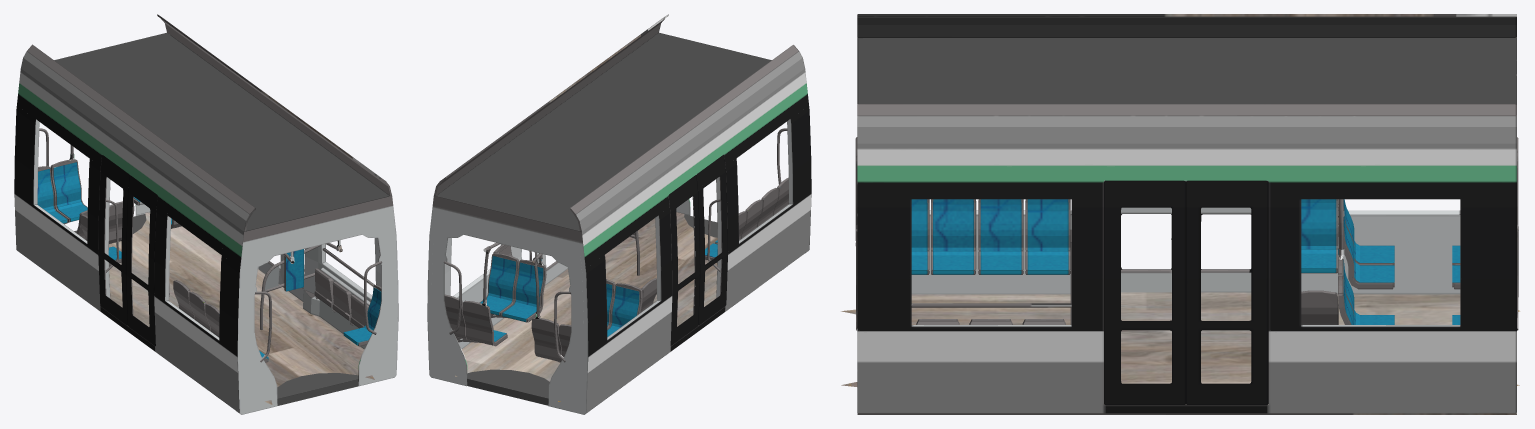
The model's file is trailcaf.obj.
The picture shows the model from 3 angles, left to right: view 1: azimuth 30°, elevation 25°; view 2: azimuth 150°, elevation 25°; view 3: azimuth 270°, elevation 25°; orthographic projection. The views are drawn at different scales.
Visible parts, largest first — view 1: extintfloor, ext, abitacleextint, extd, extdr2; view 2: extintfloor, ext, abitacleextint, extdr2, extd; view 3: ext, extintfloor, abitacleextint, extd2, extdr, extd, extdr2.
Boxes of the visible parts, x1=… form: extintfloor: x1=54, y1=14, x2=391, y2=404; ext: x1=14, y1=18, x2=389, y2=413; abitacleextint: x1=33, y1=32, x2=398, y2=414; extd: x1=126, y1=175, x2=157, y2=346; extdr2: x1=98, y1=155, x2=129, y2=325; extintfloor: x1=434, y1=14, x2=771, y2=401; ext: x1=436, y1=18, x2=811, y2=413; abitacleextint: x1=427, y1=32, x2=793, y2=414; extdr2: x1=668, y1=175, x2=700, y2=345; extd: x1=696, y1=154, x2=727, y2=325; ext: x1=857, y1=14, x2=1516, y2=414; extintfloor: x1=841, y1=14, x2=1519, y2=404; abitacleextint: x1=855, y1=137, x2=1518, y2=330; extd2: x1=1186, y1=180, x2=1268, y2=404; extdr: x1=1104, y1=180, x2=1186, y2=404; extd: x1=1121, y1=207, x2=1171, y2=292; extdr2: x1=1201, y1=207, x2=1251, y2=292.
Size of the model in its own units: 2.96 by 3.58 by 7.34.
3 materials, 3 textured.
